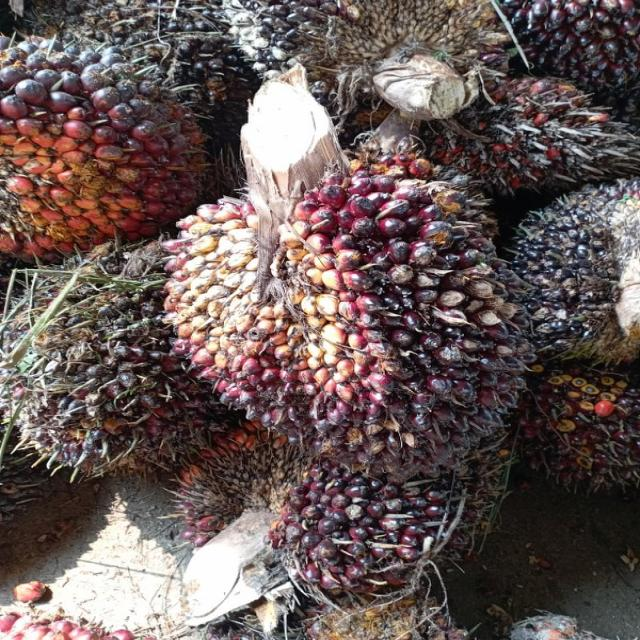fraksi 00: (0, 249, 214, 472)
fraksi 1: (143, 116, 524, 479), (0, 28, 239, 262), (267, 456, 442, 593)
